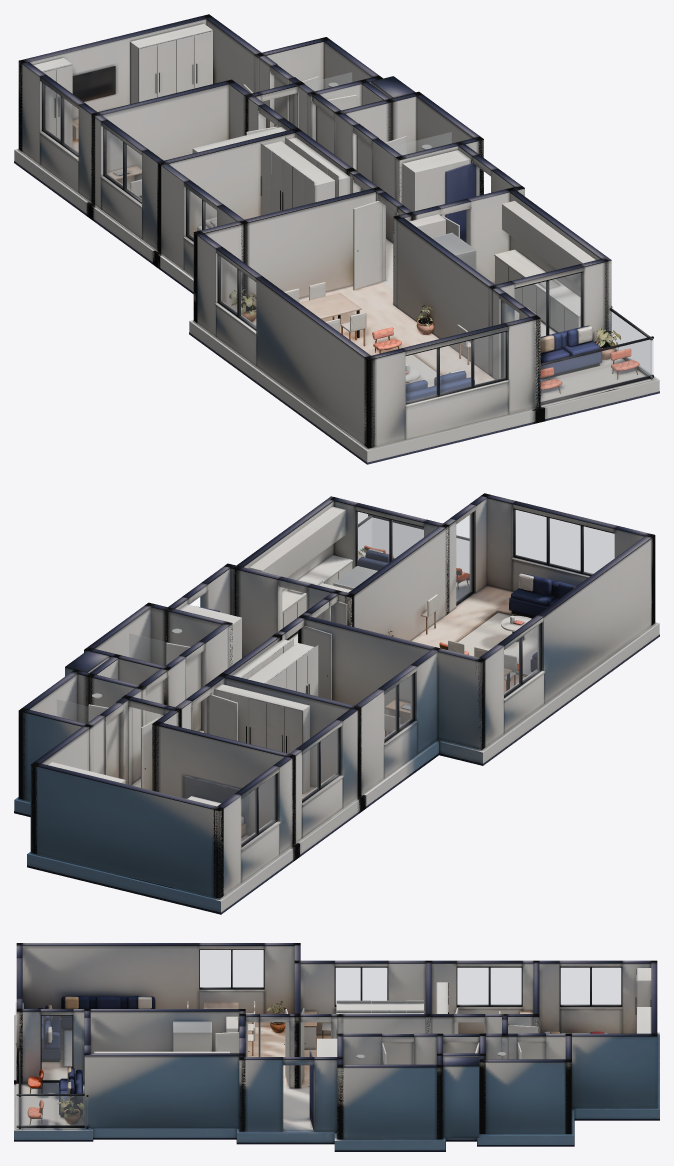
3 renders of one model, top to bottom at view 1: azimuth 30°, elevation 25°; view 2: azimuth 150°, elevation 25°; view 3: azimuth 270°, elevation 25°, orthographic. The views are drawn at different scales.
Parts seen in each view (by area): view 1: plan, glass4_m, railg2_m, glass6_m, glass1_m, glass3_m, glass0_m, railg5_m, glass2_m; view 2: plan, glass4_m, glass6_m, glass1_m, railg2_m, glass3_m, glass0_m, glass5_m, glass2_m, sg.001_m; view 3: plan, glass3_m, glass1_m, glass0_m, railg5_m, glass5_m, glass2_m.
Part boxes in pixels (x1,y1,x2,y2): plan: [14, 14, 659, 464]; glass4_m: [406, 332, 505, 401]; railg2_m: [541, 339, 653, 401]; glass6_m: [515, 273, 581, 336]; glass1_m: [105, 129, 141, 200]; glass3_m: [220, 256, 255, 327]; glass0_m: [44, 84, 78, 153]; railg5_m: [610, 311, 651, 376]; glass2_m: [188, 190, 216, 238]; plan: [14, 493, 659, 914]; glass4_m: [515, 510, 614, 573]; glass6_m: [357, 512, 423, 570]; glass1_m: [302, 729, 338, 799]; railg2_m: [372, 518, 468, 572]; glass3_m: [504, 624, 539, 694]; glass0_m: [241, 775, 275, 844]; glass5_m: [456, 513, 471, 602]; glass2_m: [384, 674, 412, 739]; sg.001_m: [129, 633, 166, 665]; plan: [14, 943, 659, 1151]; glass3_m: [200, 950, 263, 987]; glass1_m: [457, 968, 521, 1004]; glass0_m: [561, 968, 620, 1004]; railg5_m: [17, 1096, 84, 1125]; glass5_m: [42, 1016, 71, 1080]; glass2_m: [336, 968, 386, 1002].
Bounding box in the file's own units: 8.52 × 2.62 × 18.39.
2 materials, 1 textured.
